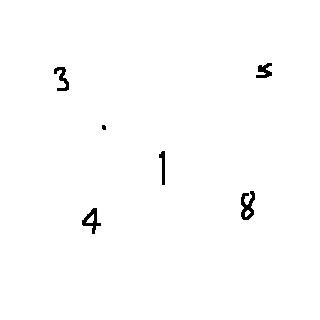.: (91, 117, 114, 134)
1: (153, 144, 181, 193)
3: (47, 59, 74, 93)
4: (78, 203, 118, 239)
5: (253, 57, 282, 88)
8: (235, 178, 263, 230)
